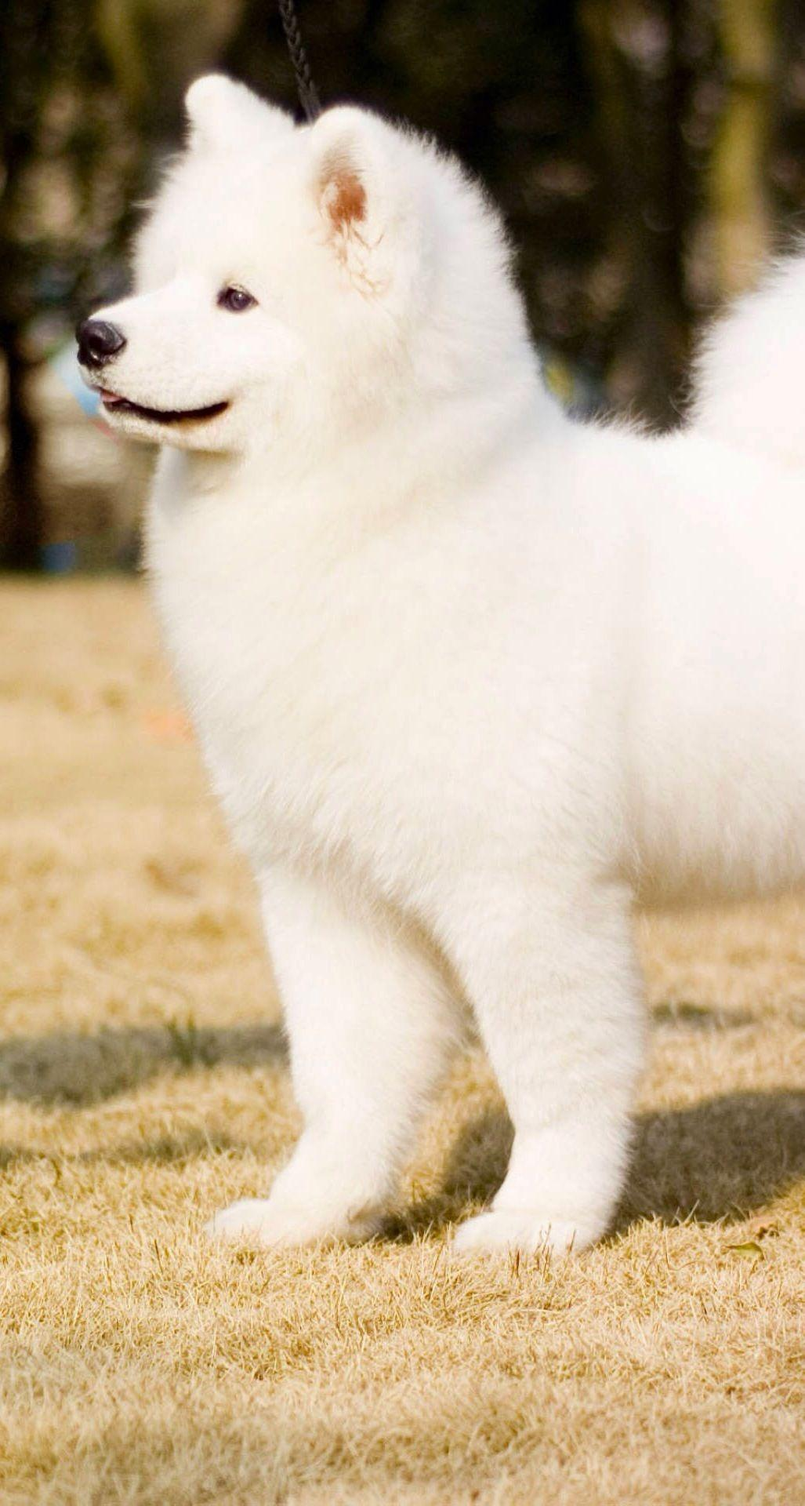adult_dog: (67, 60, 805, 1267)
